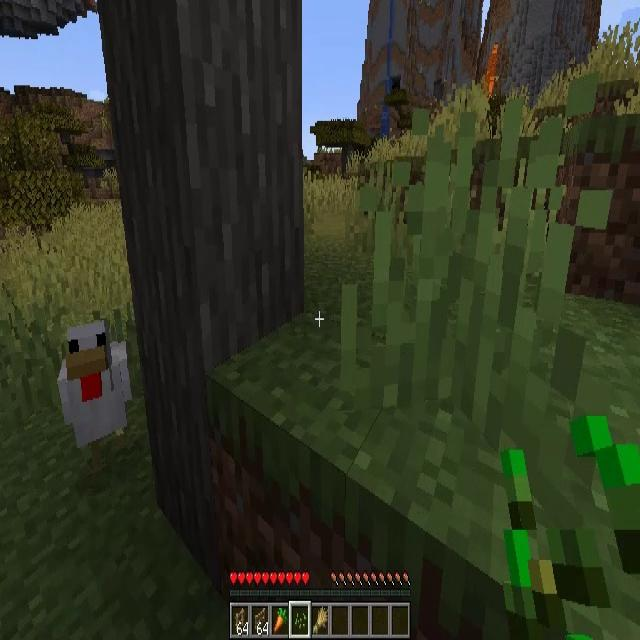duck: (57, 321, 130, 446)
